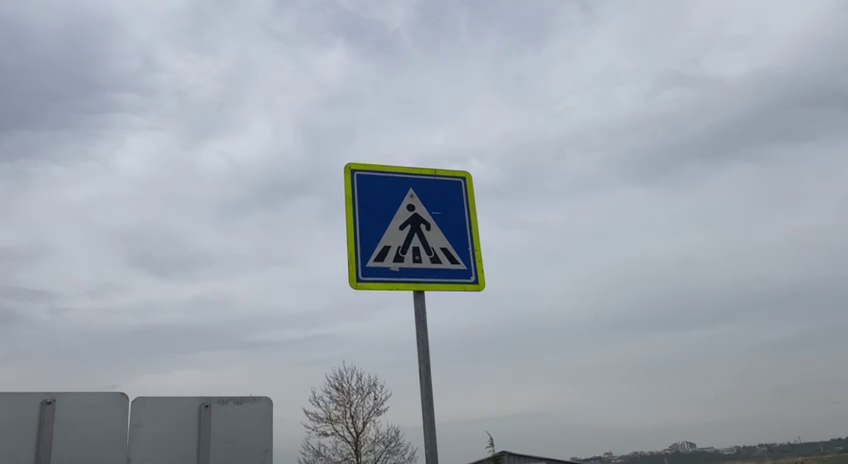pedestrianCrossing: (342, 159, 489, 296)
